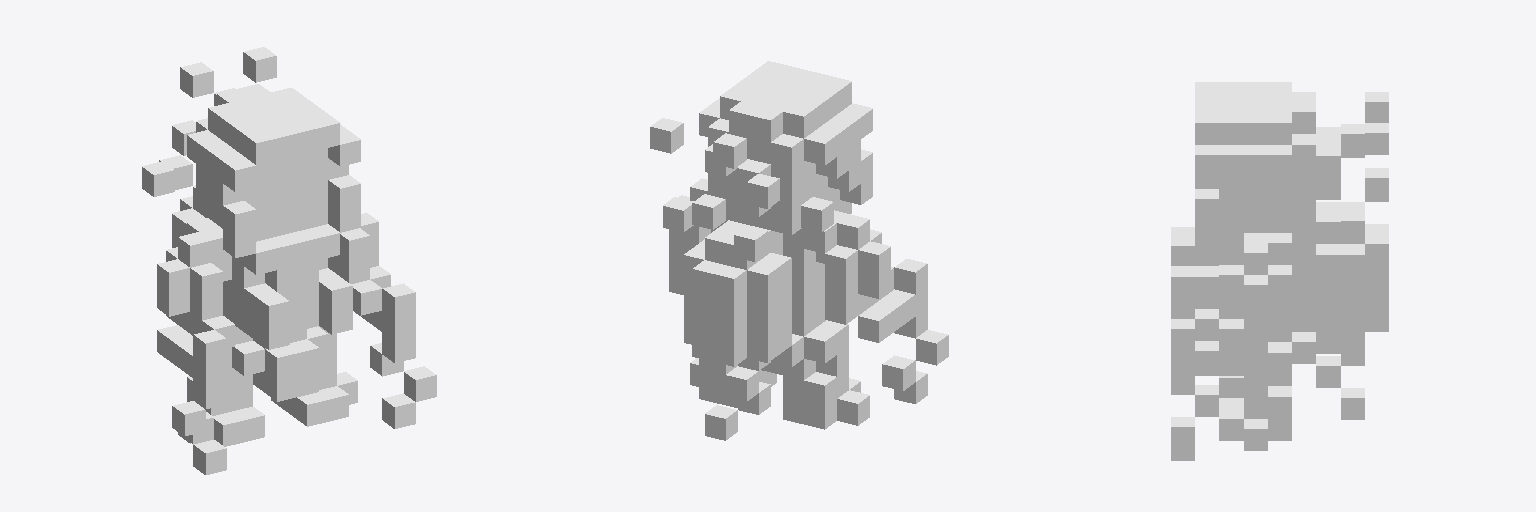
File: Astronaut.obj
3 views of the same model, side by side, from view 1: azimuth 30°, elevation 25°; view 2: azimuth 150°, elevation 25°; view 3: azimuth 270°, elevation 25° (orthographic).
Parts seen in each view (by area): view 1: astornote; view 2: astornote; view 3: astornote.
Boxes of the visible parts, x1,y1,x2,y2 form: astornote: [142, 47, 436, 474]; astornote: [650, 61, 948, 440]; astornote: [1171, 82, 1388, 460].
Bounding box in the file's own units: 12 × 14 × 9.